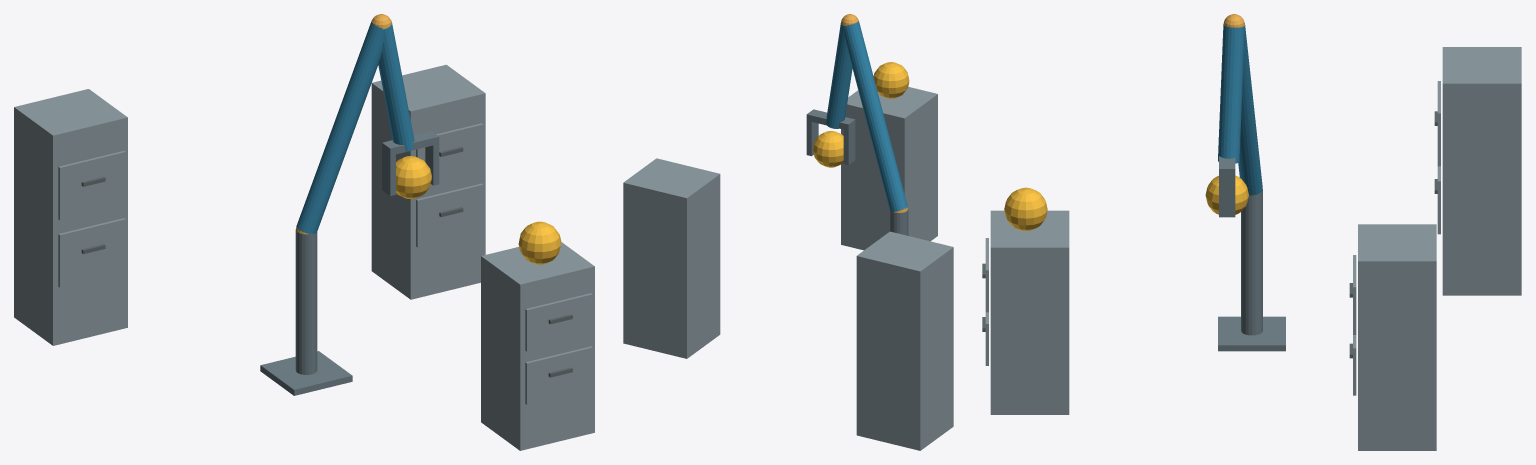
3 renders of one model, left to right at view 1: azimuth 30°, elevation 25°; view 2: azimuth 150°, elevation 25°; view 3: azimuth 270°, elevation 25°, orthographic. The views are drawn at different scales.
Parts seen in each view (by area): view 1: cabinet_3 body, cabinet_1 body, cabinet_2 body, moving link 1, cabinet_3 drawer front.001, cabinet_3 drawer front, cabinet_2 drawer front, fixed post, cabinet_1 drawer front, cabinet_1 drawer front.001, moving link 2, cabinet_2 drawer front.001 (+5 smaller); view 2: cabinet_3 body, cabinet_2 body, cabinet_1 body, moving link 1, moving link 2, released ball_1, ball ball_2, gripper finger -1, gripper bridge, fixed post, gripper finger 1; view 3: cabinet_3 body, cabinet_2 body, cabinet_1 body, fixed post, moving link 2, moving link 1, pedestal, released ball_1, ball ball_2, gripper finger 1.
Boxes of the visible parts, x1,y1,x2,y2 form: cabinet_3 body: [14, 89, 127, 345]; cabinet_1 body: [481, 242, 594, 450]; cabinet_2 body: [371, 64, 485, 299]; moving link 1: [296, 21, 384, 234]; cabinet_3 drawer front.001: [58, 151, 125, 220]; cabinet_3 drawer front: [58, 218, 125, 287]; cabinet_2 drawer front: [416, 183, 483, 247]; fixed post: [295, 229, 317, 374]; cabinet_1 drawer front: [525, 346, 592, 404]; cabinet_1 drawer front.001: [525, 293, 592, 351]; moving link 2: [378, 23, 414, 151]; cabinet_2 drawer front.001: [416, 123, 483, 181]; cabinet_3 body: [856, 231, 953, 450]; cabinet_2 body: [623, 158, 720, 358]; cabinet_1 body: [841, 87, 937, 250]; moving link 1: [844, 21, 907, 211]; moving link 2: [826, 21, 852, 128]; released ball_1: [873, 62, 909, 98]; ball ball_2: [813, 131, 843, 167]; gripper finger -1: [843, 126, 855, 165]; gripper bridge: [806, 109, 855, 130]; fixed post: [890, 209, 908, 235]; gripper finger 1: [806, 120, 818, 156]; cabinet_3 body: [1442, 47, 1521, 295]; cabinet_2 body: [1358, 224, 1436, 450]; cabinet_1 body: [990, 210, 1069, 414]; fixed post: [1241, 189, 1262, 335]; moving link 2: [1218, 25, 1244, 163]; moving link 1: [1238, 23, 1262, 195]; pedestal: [1218, 316, 1285, 351]; released ball_1: [1004, 187, 1047, 230]; ball ball_2: [1205, 175, 1248, 214]; gripper finger 1: [1219, 176, 1235, 217].
Bounding box in the file's own units: 1.67 × 1.44 × 1.98.
